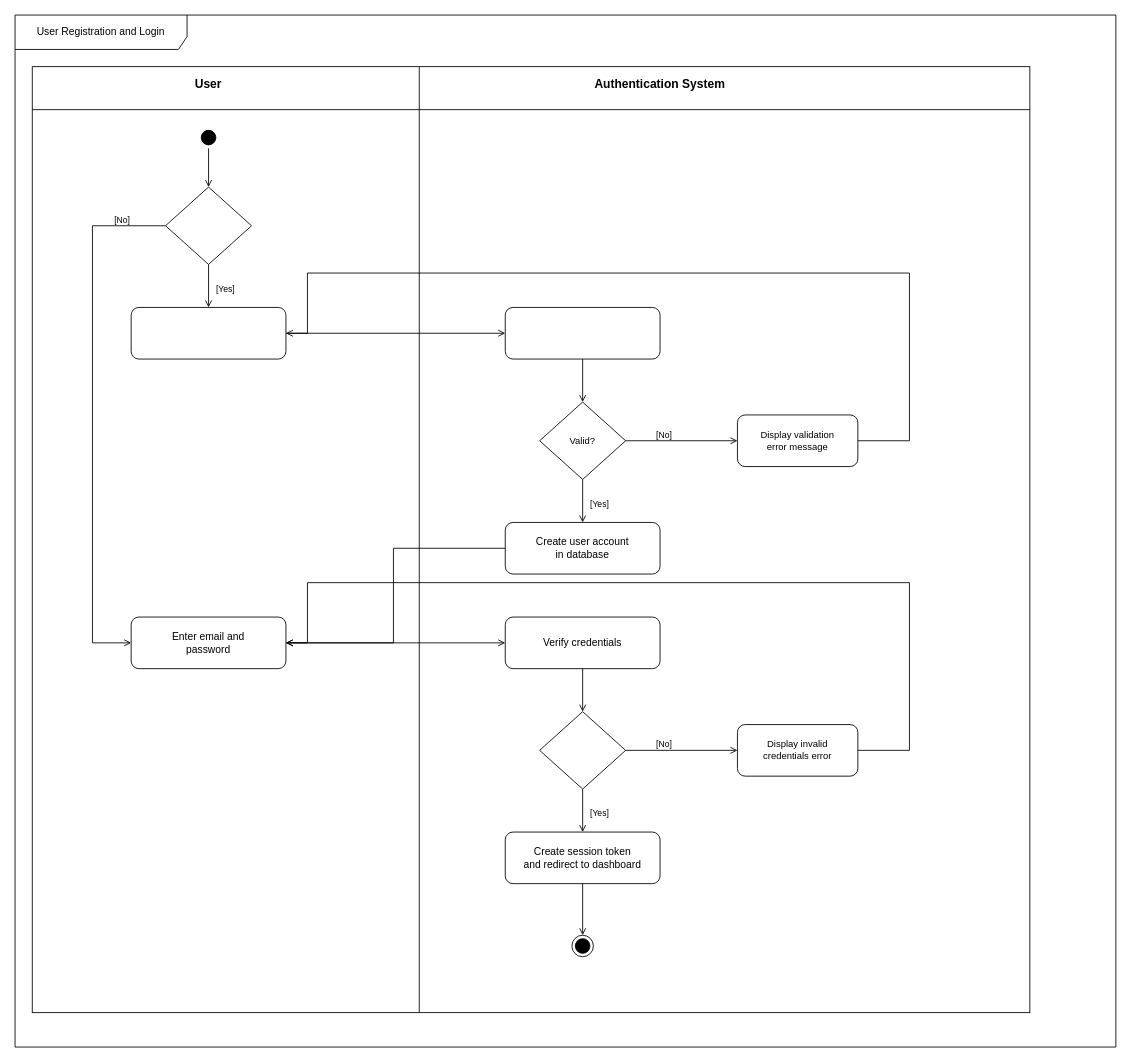
This 1131x1062 diagram has some shape labels left out. The shapes that lost their labels are listed below. From the top down, each one's centre as x and y in pixels, then its label:
the point at 208,225: New User?
the point at 208,333: Enter registration details
the point at 582,333: Validate registration data
the point at 582,750: Auth Success?
